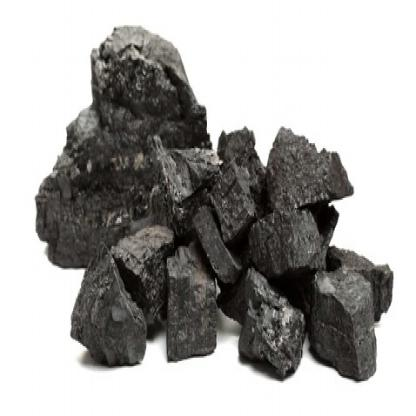Sedimentary_coal: (88, 10, 210, 183), (78, 223, 180, 363), (266, 118, 361, 211), (312, 254, 380, 378), (238, 258, 304, 378), (163, 258, 214, 363)
